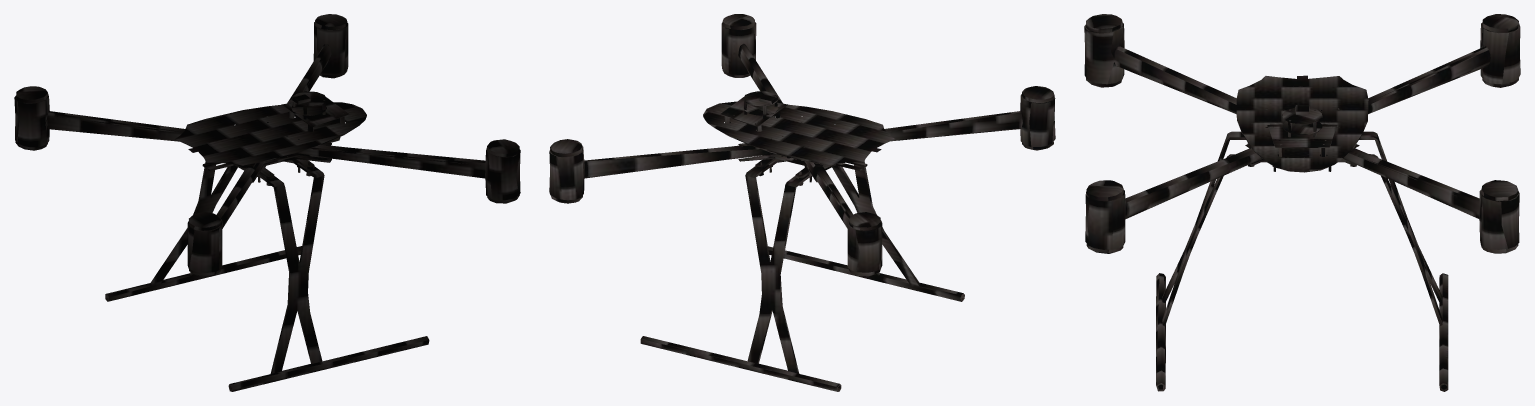
The model's file is x8_propless_textured.dae.
3 renders of one model, left to right at view 1: azimuth 30°, elevation 25°; view 2: azimuth 150°, elevation 25°; view 3: azimuth 270°, elevation 25°, orthographic. The views are drawn at different scales.
Visible parts, largest first — view 1: X8_out_of_box; view 2: X8_out_of_box; view 3: X8_out_of_box.
Boxes of the visible parts, box(x1,y1,x2,y2) form: X8_out_of_box: box(14, 14, 520, 391); X8_out_of_box: box(549, 14, 1055, 391); X8_out_of_box: box(1084, 14, 1520, 391).
Bounding box in the file's own units: 0.5999 × 0.6016 × 0.3771.
1 material, 1 textured.
